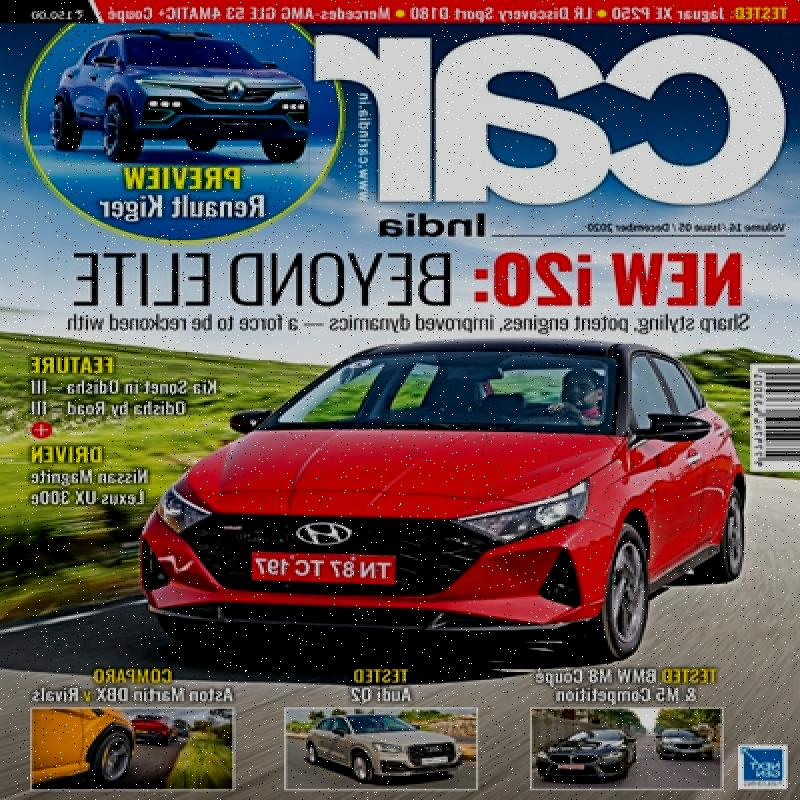car: (104, 320, 757, 664)
